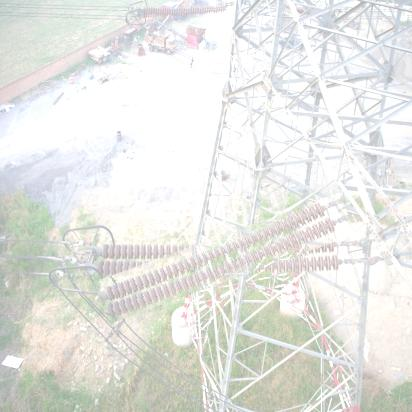insulator: (96, 215, 357, 303), (143, 1, 227, 20)
